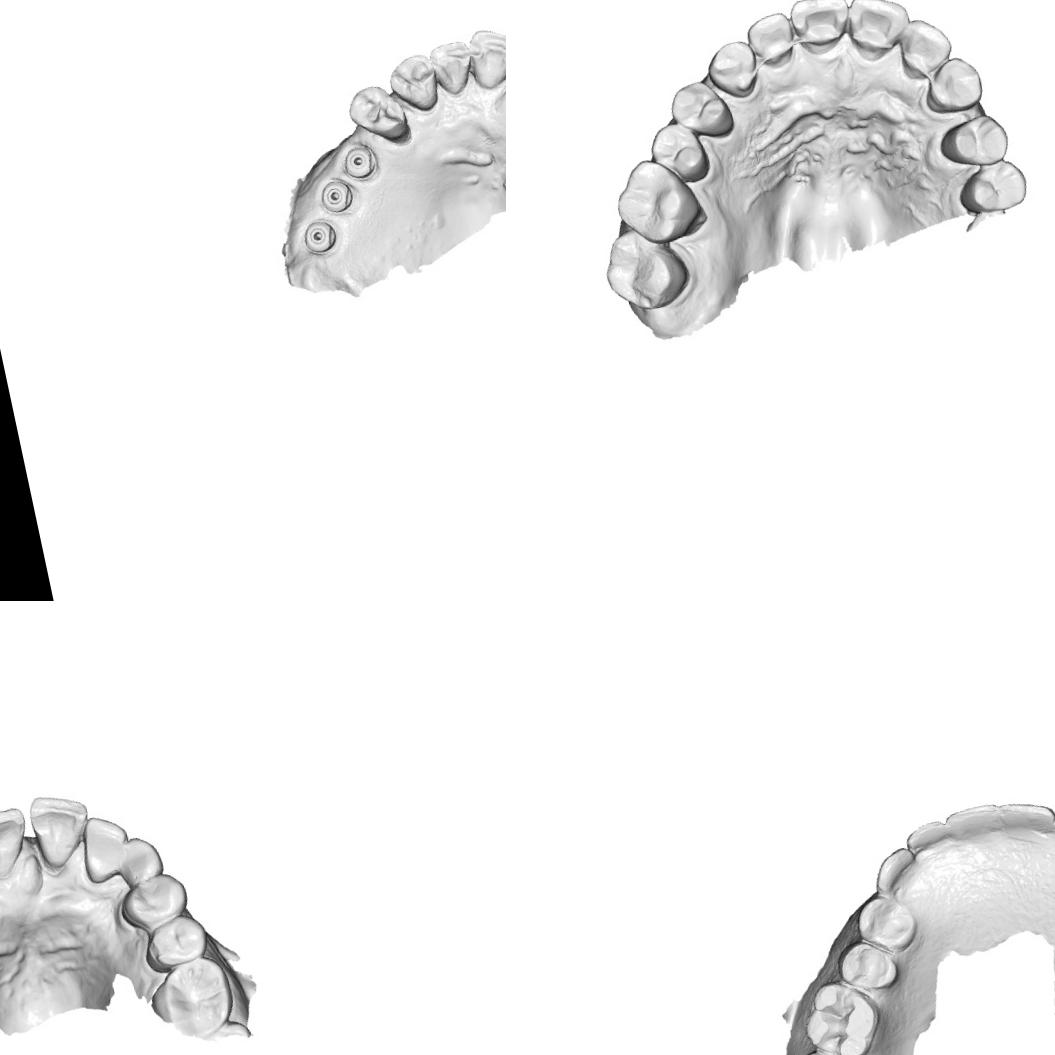canine: (916, 50, 989, 118), (701, 36, 764, 105), (383, 47, 444, 118), (866, 844, 926, 896), (112, 832, 166, 888)
implant: (314, 175, 356, 218), (298, 216, 341, 256), (340, 142, 380, 182)
incisor: (21, 786, 98, 873), (839, 0, 918, 66), (890, 10, 959, 84), (75, 811, 136, 886), (785, 0, 858, 61), (740, 8, 802, 75), (426, 36, 478, 100), (462, 21, 506, 95), (939, 802, 1003, 848), (996, 794, 1053, 845), (0, 803, 35, 883), (902, 816, 954, 867)
molar: (606, 148, 708, 254), (596, 217, 696, 320), (142, 952, 238, 1046), (797, 974, 886, 1055)
premolar: (664, 74, 738, 148), (644, 116, 715, 192), (114, 868, 194, 935), (951, 155, 1033, 220), (933, 109, 1014, 174), (136, 911, 213, 978), (832, 930, 904, 1001), (342, 76, 412, 148), (850, 887, 918, 957)
